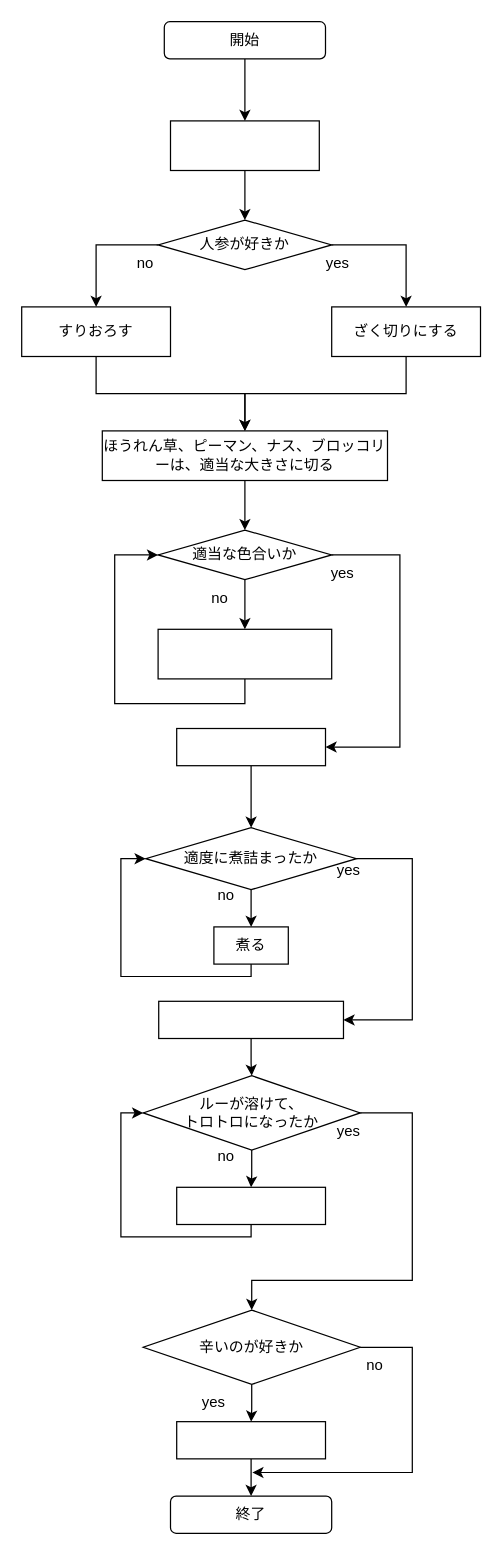
Image size: 502x1555. Some labels were removed from this diagram. Each missing label, with the centre of its shape:
カレー用のルーを入れる: the point at 250,1019
カレー粉を追加する: the point at 250,1439
具材として次の野菜を用意する: the point at 244,145
具材を軽く炒める: the point at 244,653
弱火で煮詰める: the point at 250,1205
適量の水を入れる: the point at 250,746
